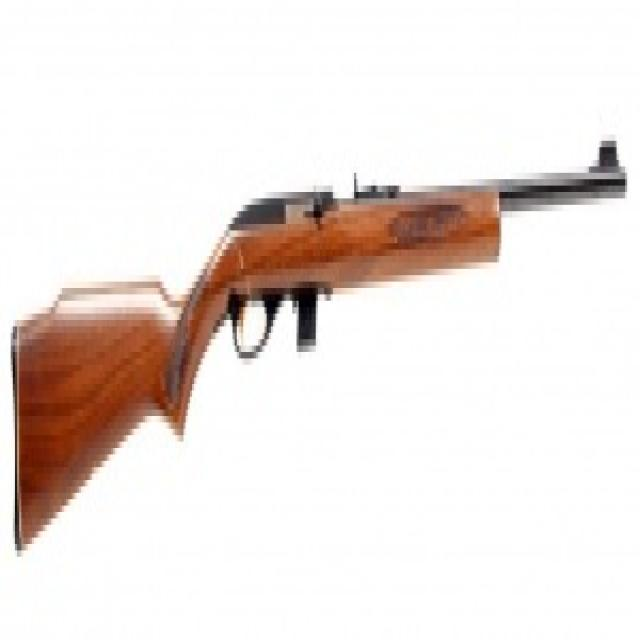rifle: (6, 129, 634, 565)
